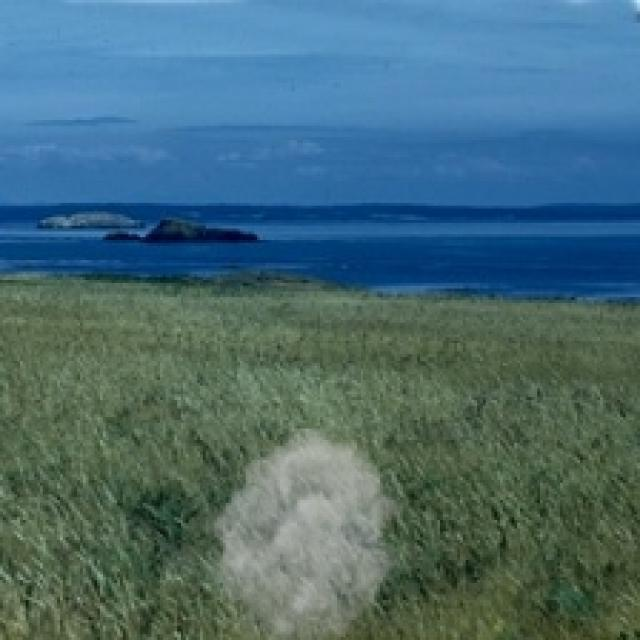Smoke: (202, 428, 408, 638)
